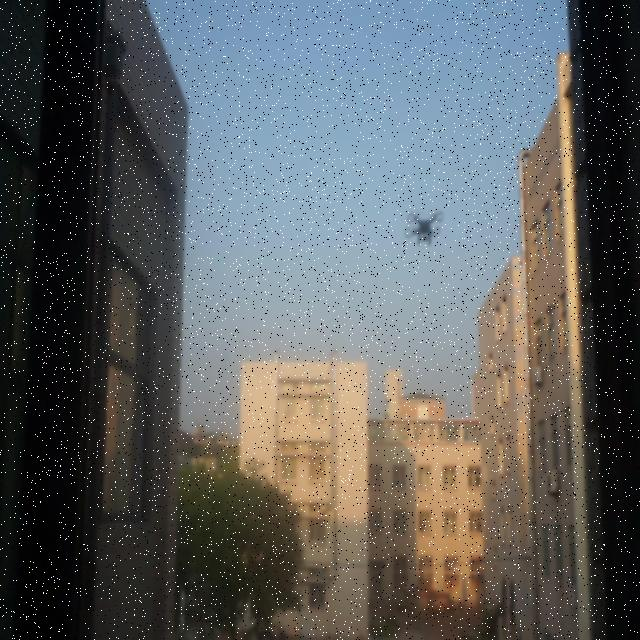UAV: (405, 210, 444, 247)
